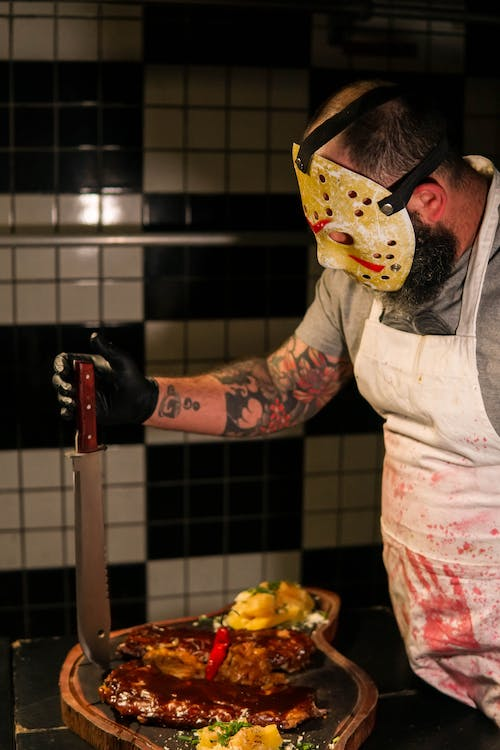blood: (378, 415, 500, 730)
knife: (67, 359, 113, 674)
